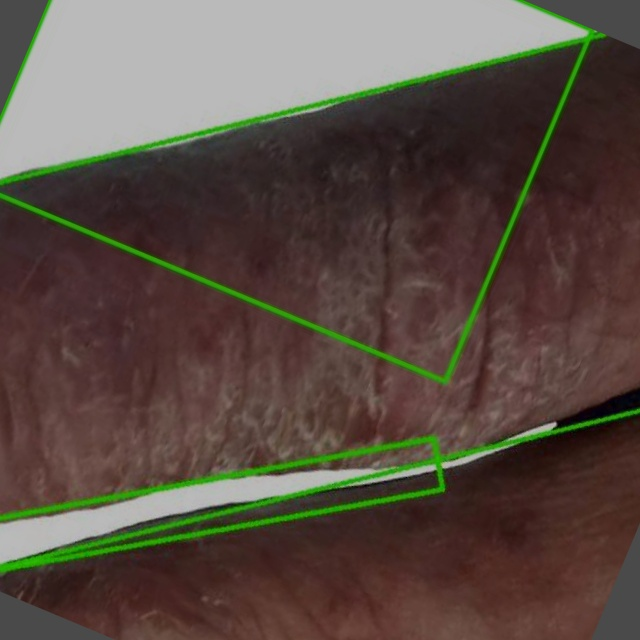Contact Dermatitis: (0, 88, 639, 513), (0, 0, 592, 381), (0, 437, 442, 570)
